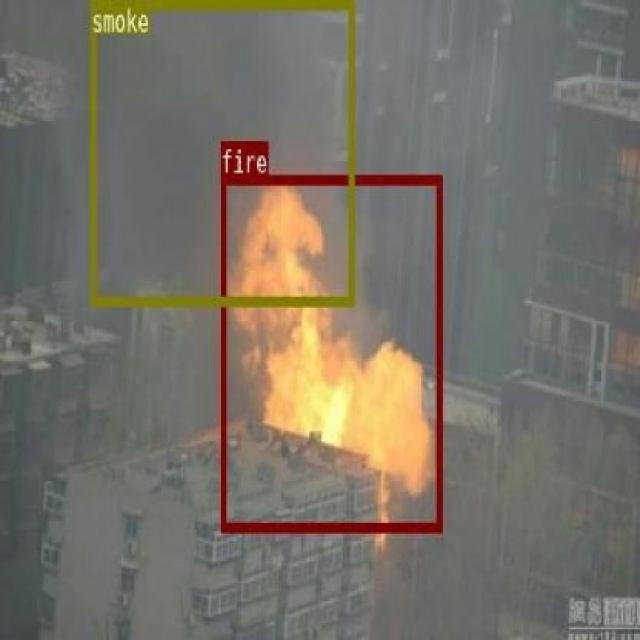Fire: (219, 173, 441, 530)
Smoke: (90, 0, 352, 305)
